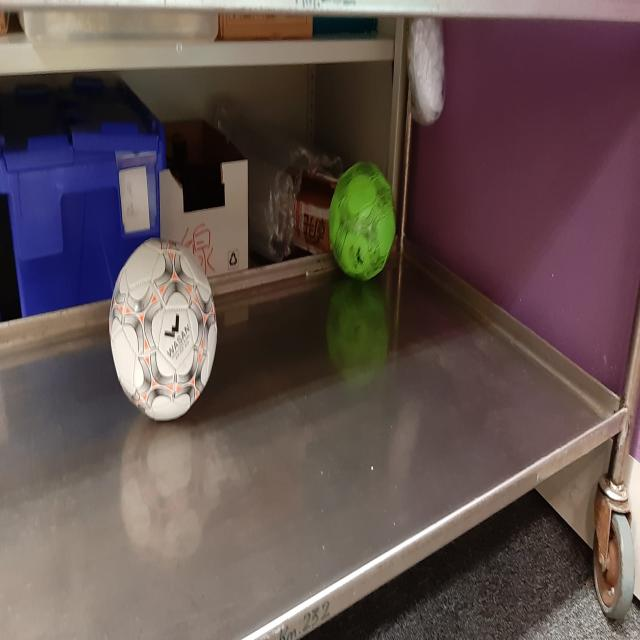ball: (108, 238, 220, 424), (327, 160, 396, 282)
